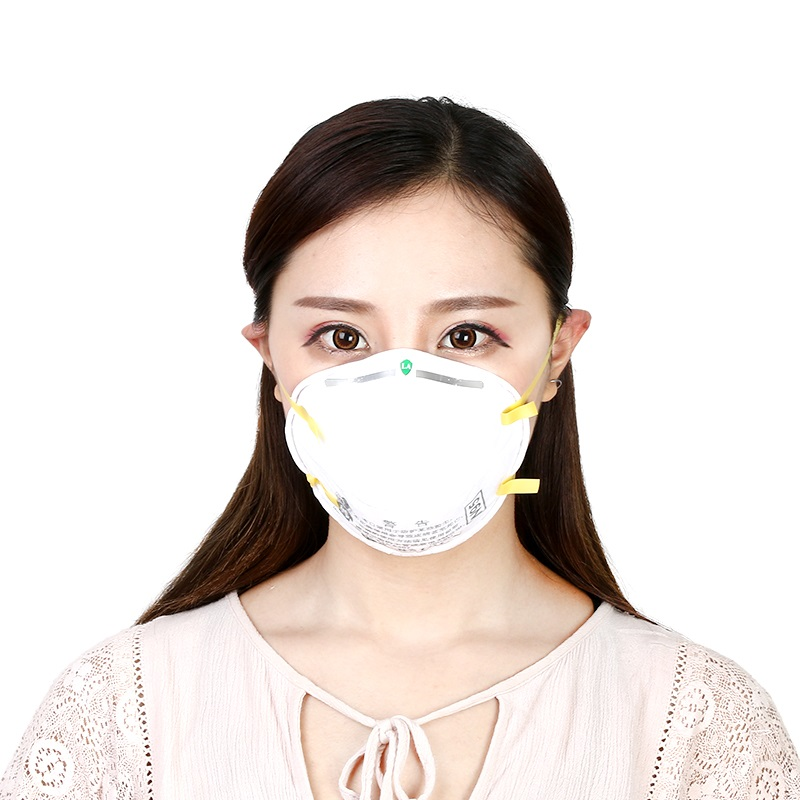face_mask: (268, 185, 545, 536)
